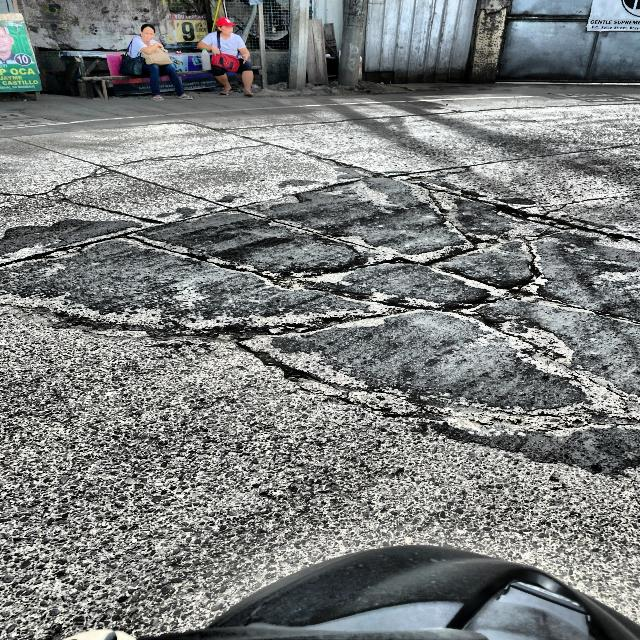cracks: (2, 176, 556, 336)
